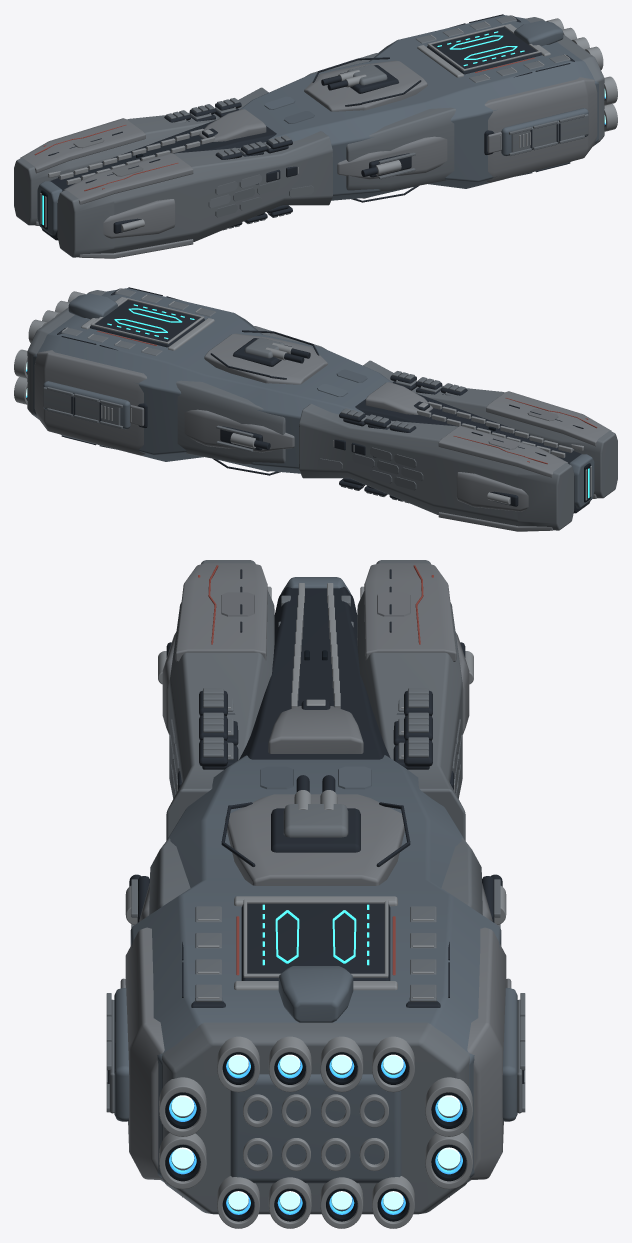
Rendered from wei-artillery.glb.
3 renders of one model, top to bottom at view 1: azimuth 30°, elevation 25°; view 2: azimuth 150°, elevation 25°; view 3: azimuth 270°, elevation 25°, orthographic. The views are drawn at different scales.
Parts seen in each view (by area): view 1: Armored aft spine, Tapered forward rail, Aft machinery pod, Raised machinery shoulder, Tapered forward rail.001, Low central equipment deck.001, Long bow armor plate.001, Long bow armor plate.003, Dorsal diagnostics deck, Raised midship side trapezoid, Recessed central keel, Forward side trapezoid mount (+10 smaller); view 2: Armored aft spine, Tapered forward rail.001, Aft machinery pod.001, Raised machinery shoulder.001, Tapered forward rail, Low central equipment deck.001, Long bow armor plate.003, Long bow armor plate.001, Dorsal diagnostics deck, Raised midship side trapezoid.001, Recessed central keel, Forward side trapezoid mount.001 (+10 smaller); view 3: Armored aft spine, Faceted aft transmission block, Aft auxiliary chamber frame, Recessed central keel, Low central equipment deck.001, Tapered forward rail.001, Tapered forward rail, Dorsal diagnostics deck, Aft machinery pod, Aft machinery pod.001, Long bow armor plate.001, Long bow armor plate.003 (+21 smaller).
Part boxes in pixels (x1,y1,x2,y2): Armored aft spine: (239,15,598,200); Tapered forward rail: (57,131,332,257); Aft machinery pod: (484,77,597,182); Raised machinery shoulder: (346,107,455,191); Tapered forward rail.001: (14,87,268,225); Low central equipment deck.001: (304,60,427,111); Long bow armor plate.001: (63,153,193,204); Long bow armor plate.003: (20,118,145,173); Dorsal diagnostics deck: (427,27,541,74); Raised midship side trapezoid: (337,136,447,179); Recessed central keel: (41,120,276,240); Forward side trapezoid mount: (103,199,175,238); Armored aft spine: (33,288,392,473); Tapered forward rail.001: (299,404,574,530); Aft machinery pod.001: (34,350,146,455); Raised machinery shoulder.001: (176,380,285,464); Tapered forward rail: (363,360,617,498); Low central equipment deck.001: (204,333,327,384); Long bow armor plate.003: (438,426,568,477); Long bow armor plate.001: (486,391,611,446); Dorsal diagnostics deck: (90,300,204,347); Raised midship side trapezoid.001: (184,409,294,452); Recessed central keel: (355,393,590,513); Forward side trapezoid mount.001: (456,472,528,511); Armored aft spine: (130,755,501,1181); Faceted aft transmission block: (162,1022,469,1214); Aft auxiliary chamber frame: (230,1074,401,1183); Recessed central keel: (239,587,390,759); Low central equipment deck.001: (225,794,406,885); Tapered forward rail.001: (357,560,465,840); Tapered forward rail: (166,560,274,840); Dorsal diagnostics deck: (241,903,390,980); Aft machinery pod: (125,927,164,1180); Aft machinery pod.001: (467,927,506,1180); Long bow armor plate.001: (175,563,267,661); Long bow armor plate.003: (364,563,456,661).
Size of the model in its own units: 18.24 by 3.92 by 6.17.
